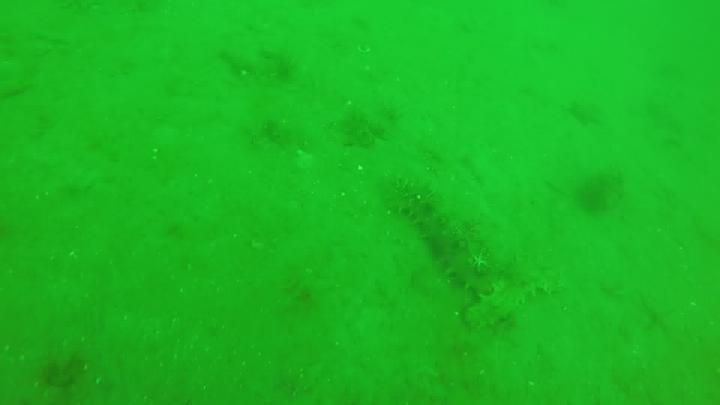holothurian: (398, 184, 499, 294), (464, 277, 582, 328)
